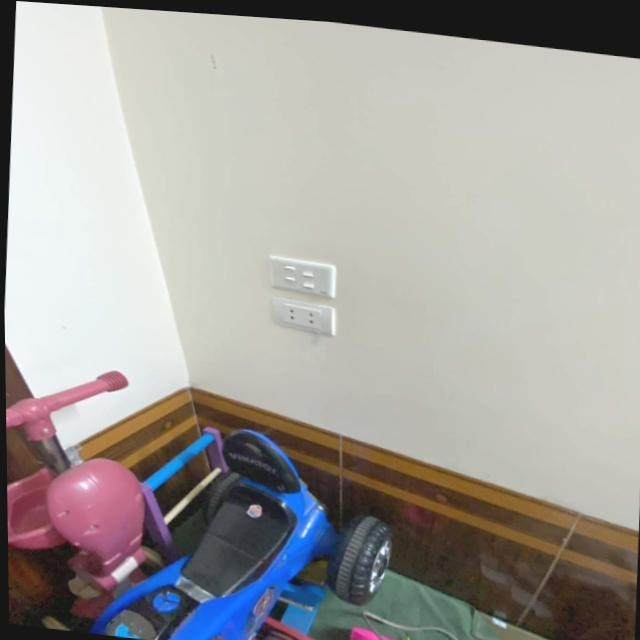outlet: (269, 296, 337, 337)
